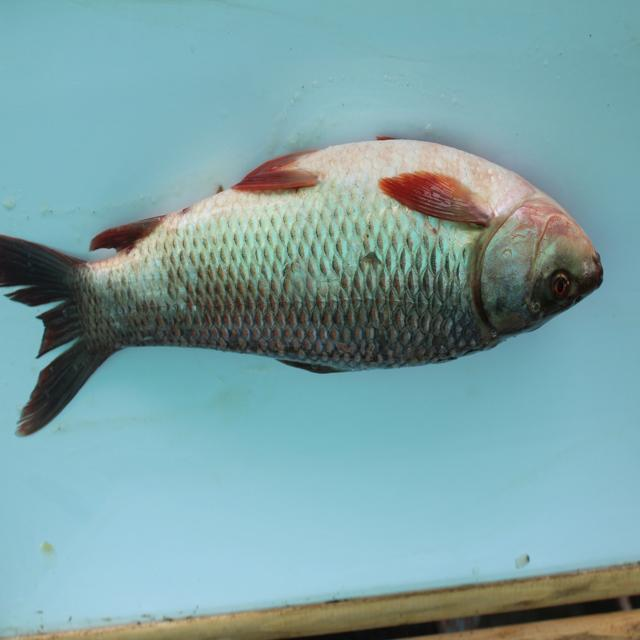Grass Carp: (4, 135, 617, 440)
